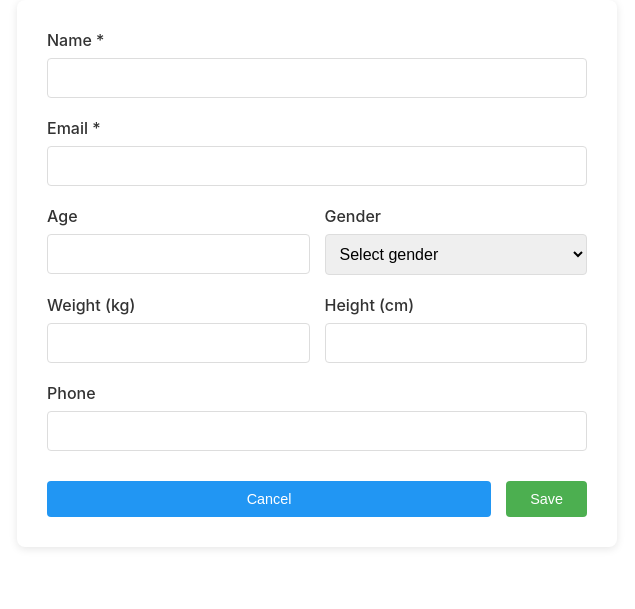
UserForm Component › should show validation error for empty name
The width and height of the screenshot is (635, 609).
Step 1. Click the button "Save" → {"x": 547, "y": 499}, box [506, 481, 587, 517]
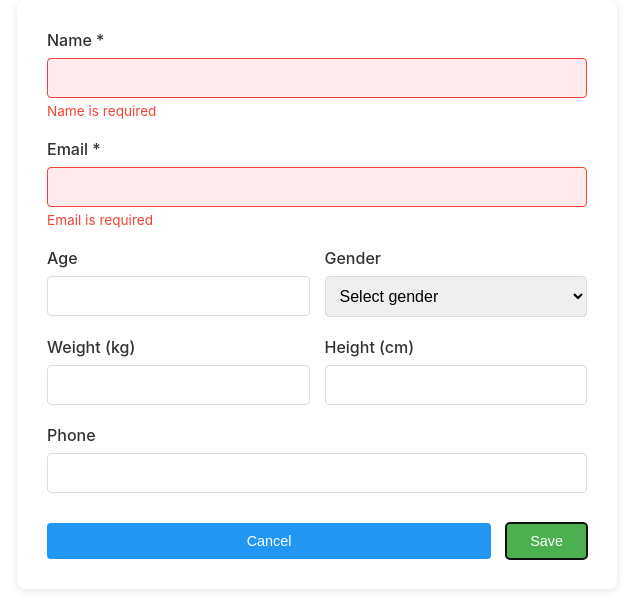
Check: the text "Name is required" is shown, box [47, 103, 156, 119]
